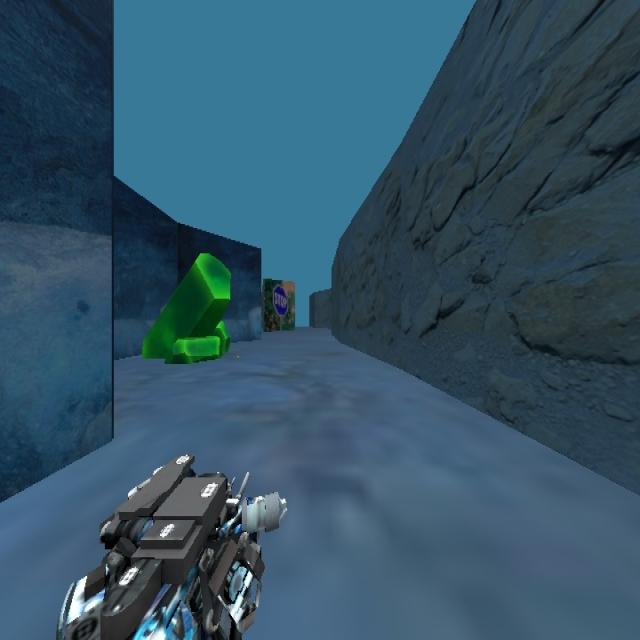Diamon: (141, 250, 231, 362)
Stop_Sign: (271, 283, 288, 316)
